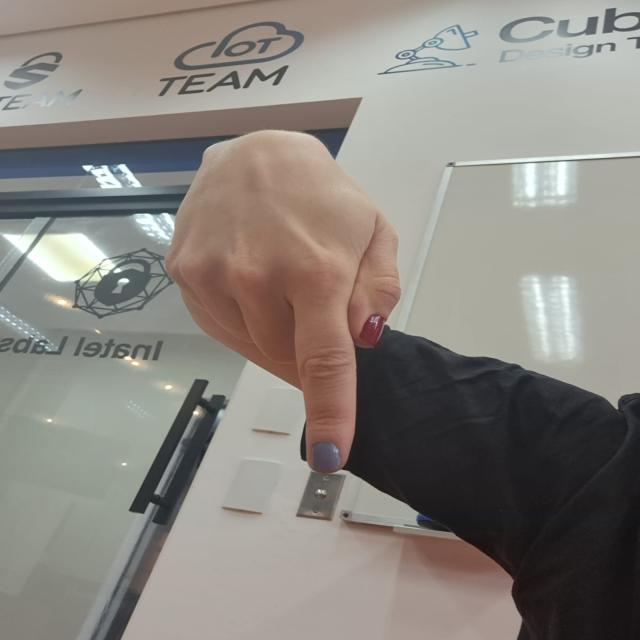Q: (157, 124, 408, 480)
